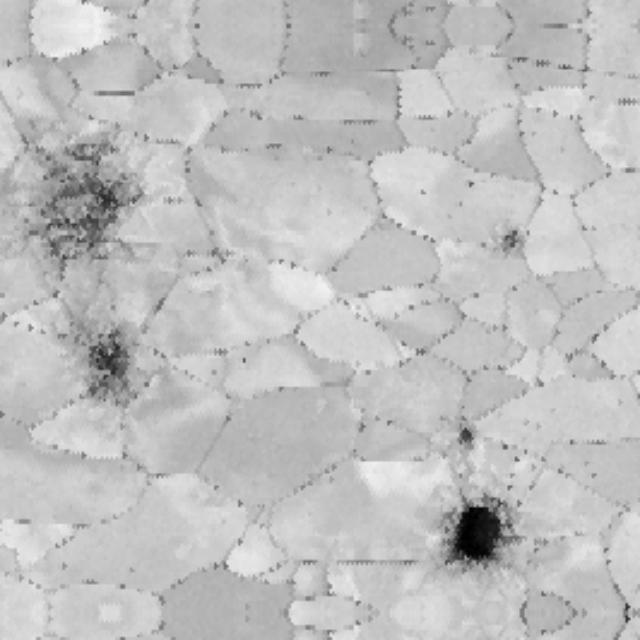good_void: (0, 126, 167, 286), (430, 478, 532, 586), (54, 302, 150, 412), (476, 214, 550, 267), (448, 419, 480, 458), (222, 344, 256, 374), (457, 174, 485, 201), (408, 183, 433, 203)
